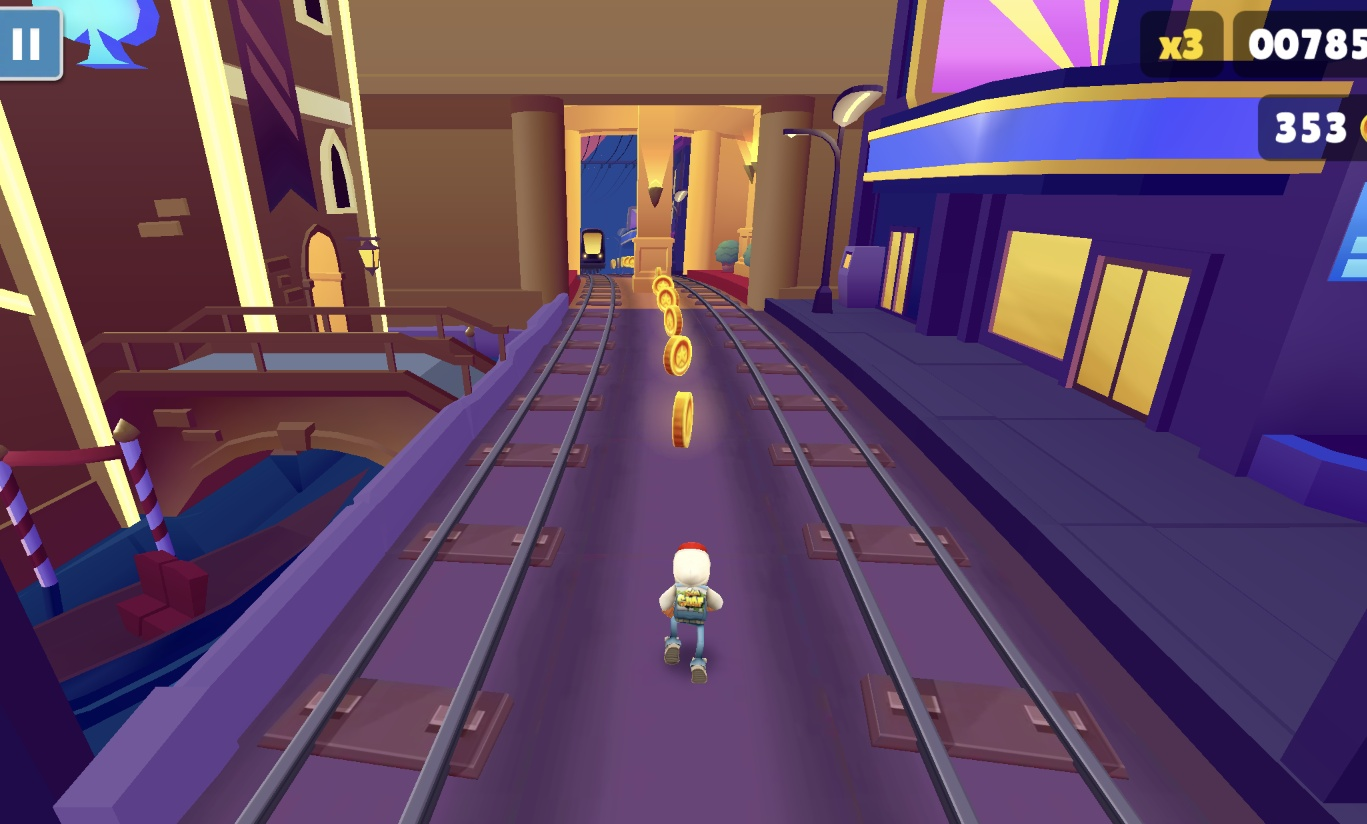pillar: (632, 105, 674, 293)
train: (579, 229, 605, 274)
